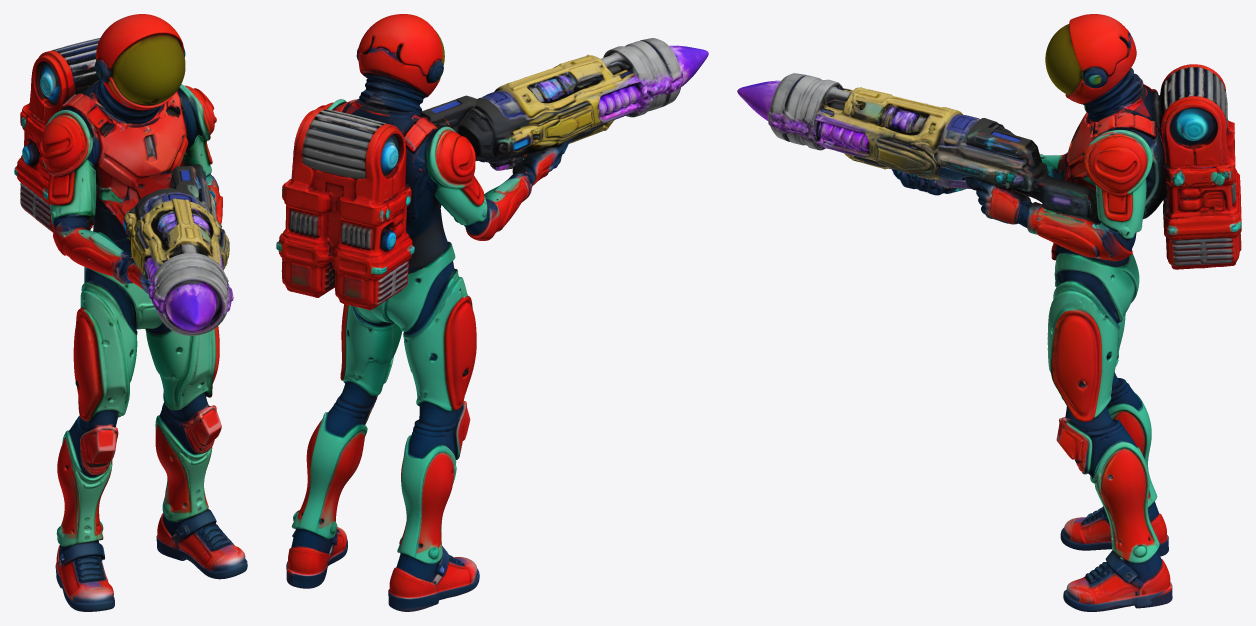
File: shootingPose.glb
3 renders of one model, left to right at view 1: azimuth 30°, elevation 25°; view 2: azimuth 150°, elevation 25°; view 3: azimuth 270°, elevation 25°, orthographic. The views are drawn at different scales.
Size of the model in its own units: 0.8221 by 1.9 by 1.58.
1 material, 1 textured.
